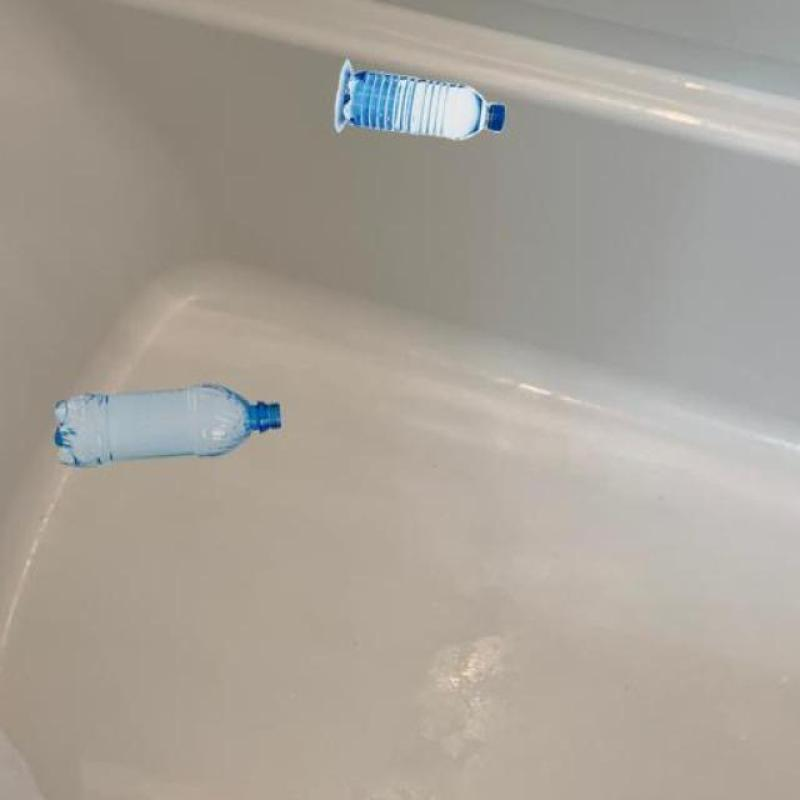botella: (57, 384, 282, 466), (343, 72, 505, 140)
